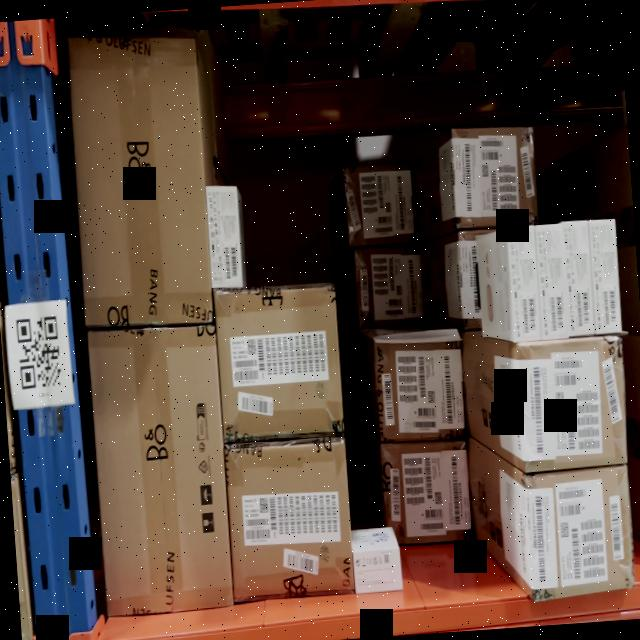box: (88, 320, 237, 629), (66, 21, 212, 328), (212, 278, 344, 444), (225, 436, 358, 598), (510, 334, 628, 476), (524, 466, 638, 594), (380, 436, 476, 548), (378, 336, 468, 442), (450, 125, 535, 232), (353, 243, 431, 328), (343, 164, 421, 245)
